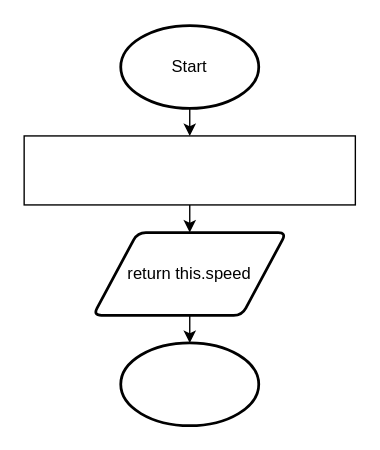
The diagram is 380 pixels wide and 450 high, and some of its shapes have lost their labels. The box of each missing label's shape, as (x1, y1, x2, y2) in pixels:
Stop: (119, 341, 259, 426)
this.speed = (getSpeed * MULTIPLIER): (23, 135, 355, 205)
